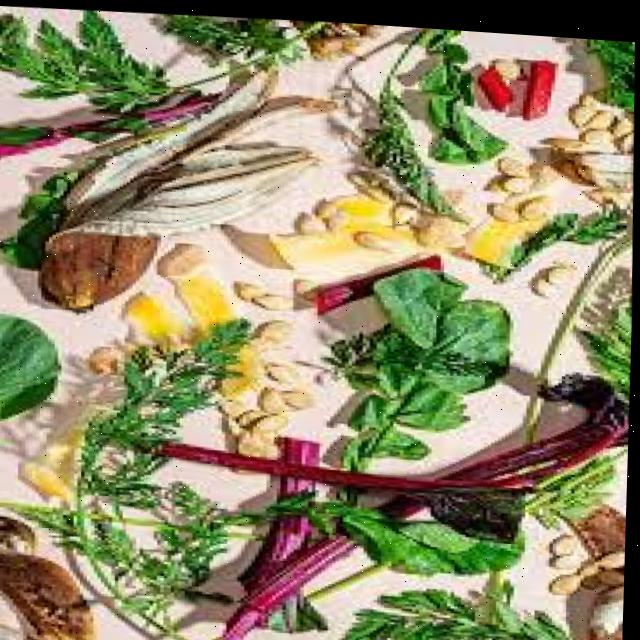Wet: (0, 0, 640, 640), (136, 347, 632, 640), (18, 29, 366, 333), (287, 238, 537, 505), (276, 447, 577, 617), (429, 36, 578, 133)
